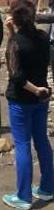boots: (0, 119, 9, 134), (0, 134, 13, 142)
